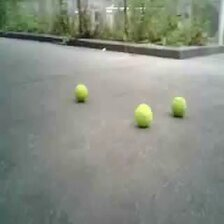tennis: (133, 104, 153, 126), (171, 97, 186, 117), (75, 84, 89, 99)
